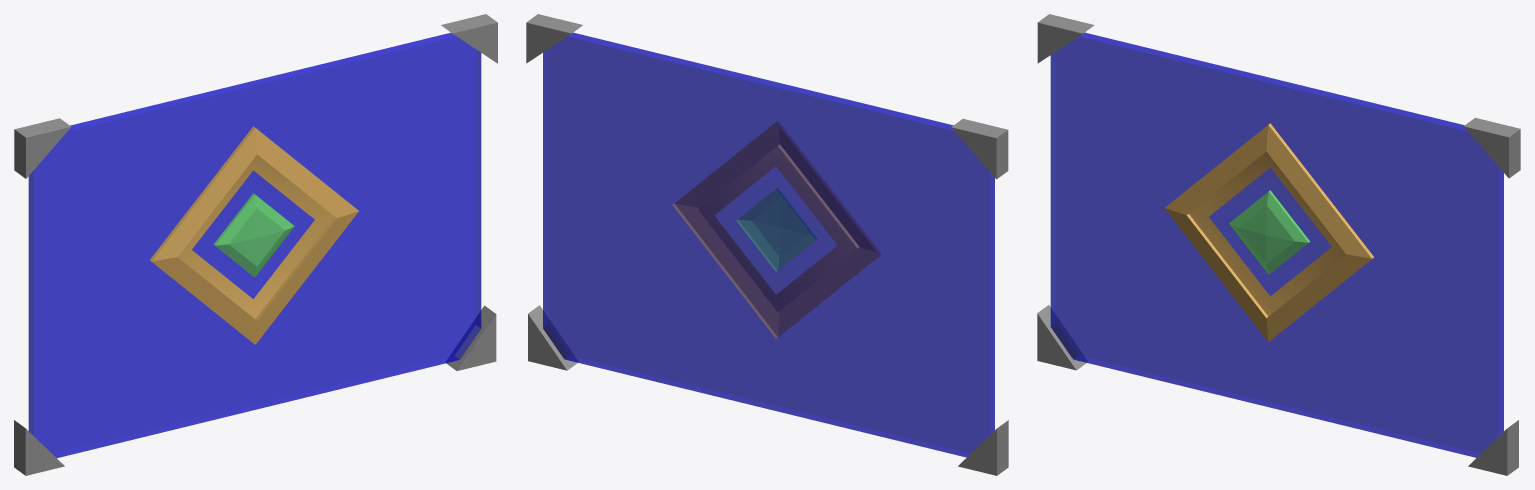
The model's file is sheild 1.fbx.
The picture shows the model from 3 angles, left to right: view 1: azimuth 30°, elevation 25°; view 2: azimuth 150°, elevation 25°; view 3: azimuth 330°, elevation 25°; orthographic projection.
Visible parts, largest first — view 1: pCylinder12; view 2: pCylinder12; view 3: pCylinder12.
Part boxes in pixels (x1=…): pCylinder12: x1=14, y1=14, x2=497, y2=475; pCylinder12: x1=526, y1=14, x2=1008, y2=475; pCylinder12: x1=1037, y1=14, x2=1520, y2=475.
Bounding box in the file's own units: 36.84 × 25.27 × 1.83.
